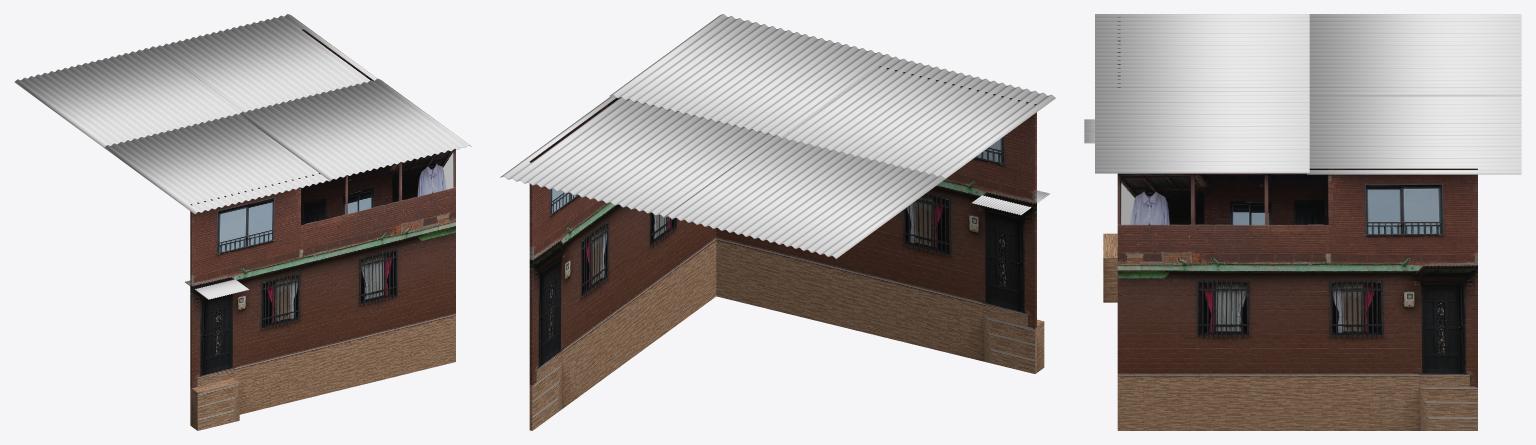
The model's file is casa_derecha_06S.fbx.
3 renders of one model, left to right at view 1: azimuth 30°, elevation 25°; view 2: azimuth 150°, elevation 25°; view 3: azimuth 270°, elevation 25°, orthographic. The views are drawn at different scales.
Parts seen in each view (by area): view 1: casa_derecha_06S.001, Techo_08.002, Techo_08.003; view 2: Techo_08.002, casa_derecha_06S.001, casa_derecha_06S.002, Techo_08.003; view 3: casa_derecha_06S.002, Techo_08.002, casa_derecha_06S.001.
Boxes of the visible parts, x1,y1,x2,y2 form: casa_derecha_06S.001: [190, 149, 455, 430]; Techo_08.002: [14, 14, 471, 214]; Techo_08.003: [185, 279, 249, 299]; Techo_08.002: [500, 14, 1055, 258]; casa_derecha_06S.001: [716, 66, 1044, 373]; casa_derecha_06S.002: [529, 97, 716, 430]; Techo_08.003: [971, 190, 1049, 215]; casa_derecha_06S.002: [1118, 168, 1477, 430]; Techo_08.002: [1095, 14, 1521, 174]; casa_derecha_06S.001: [1103, 17, 1120, 430].
Bounding box in the file's own units: 931 × 717 × 1079.
